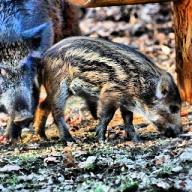boar: (33, 34, 183, 144), (0, 0, 88, 145)
